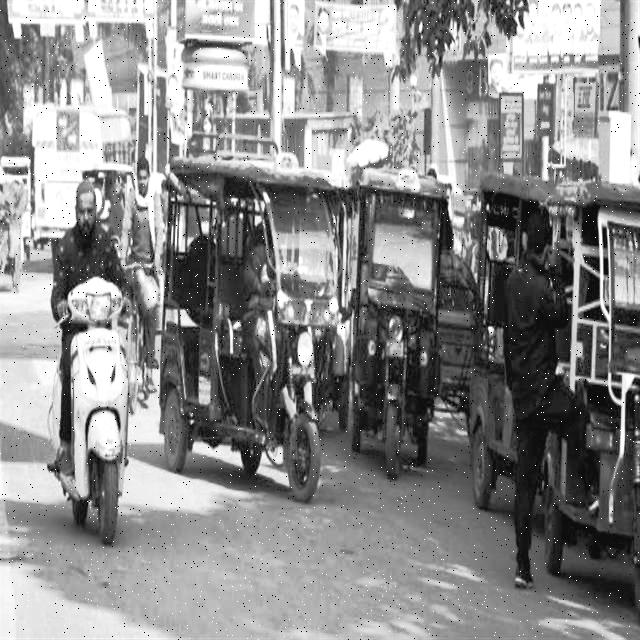Toto: (163, 153, 341, 499), (553, 172, 639, 609), (352, 160, 442, 481)
